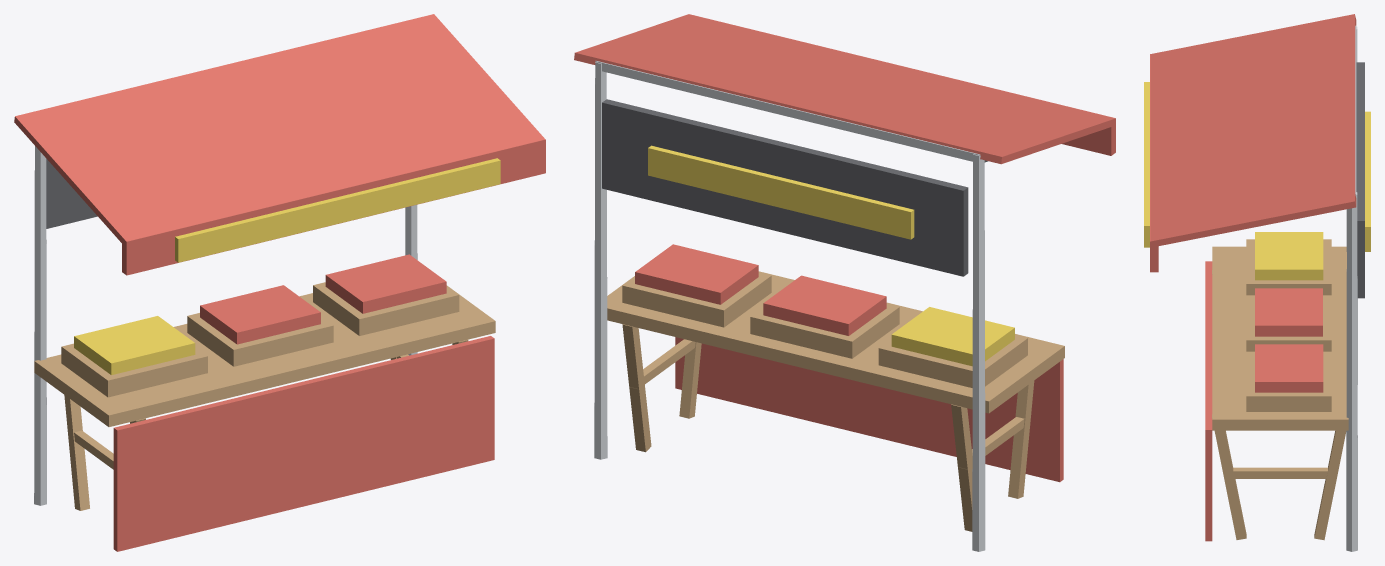
Rendered from street-food-market-and-food-trucks-trestle-stall-red-a-b0ea3177.glb.
3 renders of one model, left to right at view 1: azimuth 30°, elevation 25°; view 2: azimuth 150°, elevation 25°; view 3: azimuth 270°, elevation 25°, orthographic. The views are drawn at different scales.
Visible parts, largest first — view 1: trestle-stall-red-awning-leaf, trestle-stall-red-awning-timber, trestle-stall-red-awning-canary, trestle-stall-red-awning-steel, trestle-stall-red-awning-scarlet, trestle-stall-red-awning-charcoal; view 2: trestle-stall-red-awning-leaf, trestle-stall-red-awning-timber, trestle-stall-red-awning-charcoal, trestle-stall-red-awning-steel, trestle-stall-red-awning-canary, trestle-stall-red-awning-scarlet; view 3: trestle-stall-red-awning-leaf, trestle-stall-red-awning-timber, trestle-stall-red-awning-canary, trestle-stall-red-awning-steel, trestle-stall-red-awning-scarlet, trestle-stall-red-awning-charcoal.
Boxes of the visible parts, left/top/right/bottom form: trestle-stall-red-awning-leaf: left=14, top=14, right=545, bottom=551; trestle-stall-red-awning-timber: left=34, top=282, right=495, bottom=510; trestle-stall-red-awning-canary: left=74, top=158, right=500, bottom=375; trestle-stall-red-awning-steel: left=34, top=146, right=417, bottom=505; trestle-stall-red-awning-scarlet: left=200, top=285, right=320, bottom=344; trestle-stall-red-awning-charcoal: left=46, top=159, right=97, bottom=228; trestle-stall-red-awning-leaf: left=574, top=14, right=1115, bottom=482; trestle-stall-red-awning-timber: left=607, top=271, right=1064, bottom=531; trestle-stall-red-awning-charcoal: left=602, top=99, right=968, bottom=276; trestle-stall-red-awning-steel: left=594, top=61, right=987, bottom=551; trestle-stall-red-awning-canary: left=648, top=145, right=1014, bottom=366; trestle-stall-red-awning-scarlet: left=763, top=275, right=886, bottom=335; trestle-stall-red-awning-leaf: left=1150, top=14, right=1356, bottom=541; trestle-stall-red-awning-timber: left=1212, top=239, right=1348, bottom=540; trestle-stall-red-awning-canary: left=1144, top=82, right=1370, bottom=280; trestle-stall-red-awning-steel: left=1346, top=25, right=1357, bottom=551; trestle-stall-red-awning-scarlet: left=1255, top=288, right=1322, bottom=336; trestle-stall-red-awning-charcoal: left=1356, top=62, right=1364, bottom=298.
Size of the model in its own units: 2.6 by 2.32 by 1.33.
